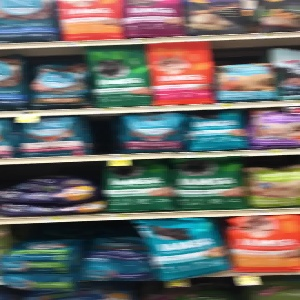void: (88, 113, 121, 155)
